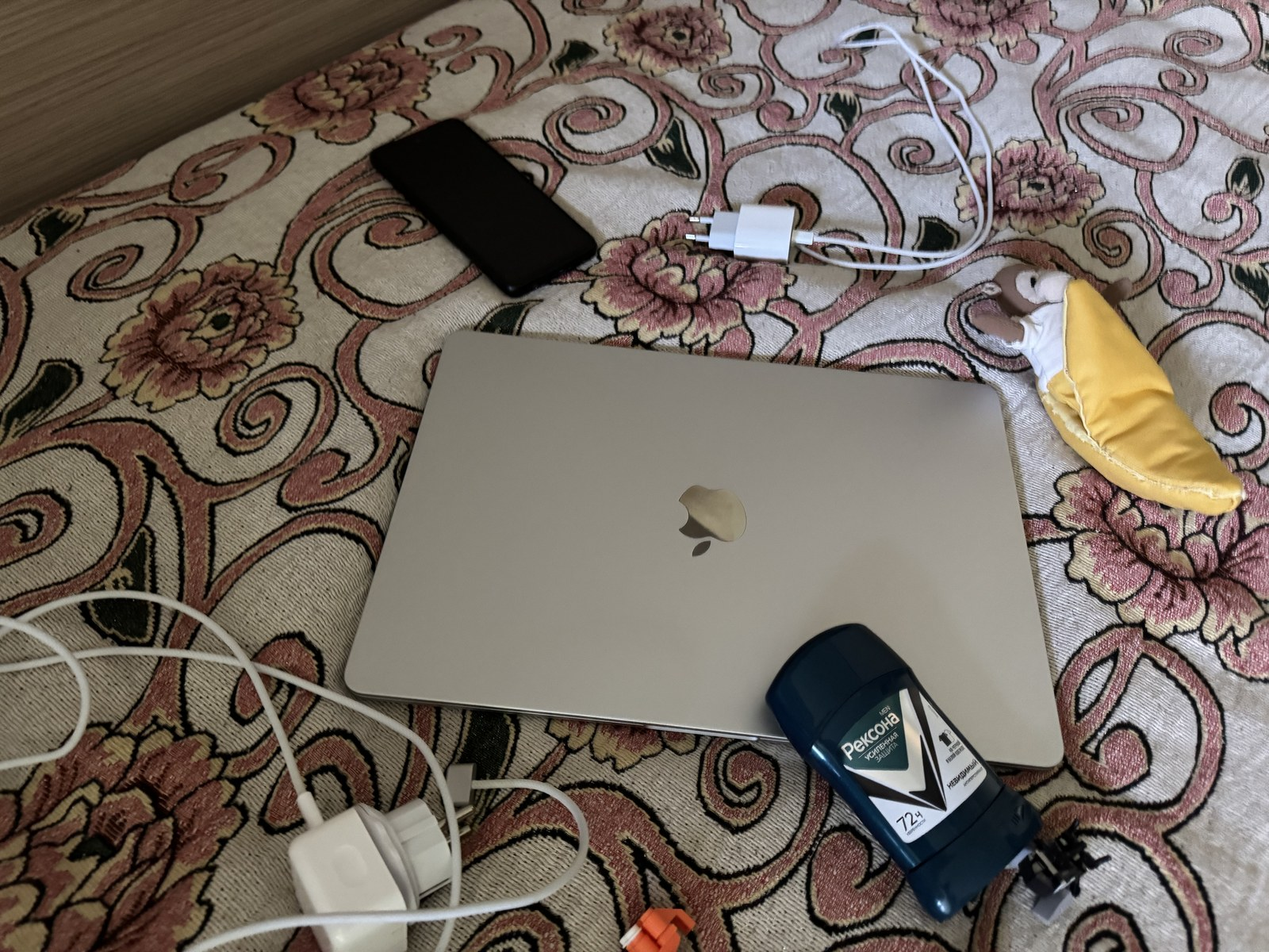cell phone: (369, 117, 599, 298)
laptop: (342, 326, 1066, 768)
